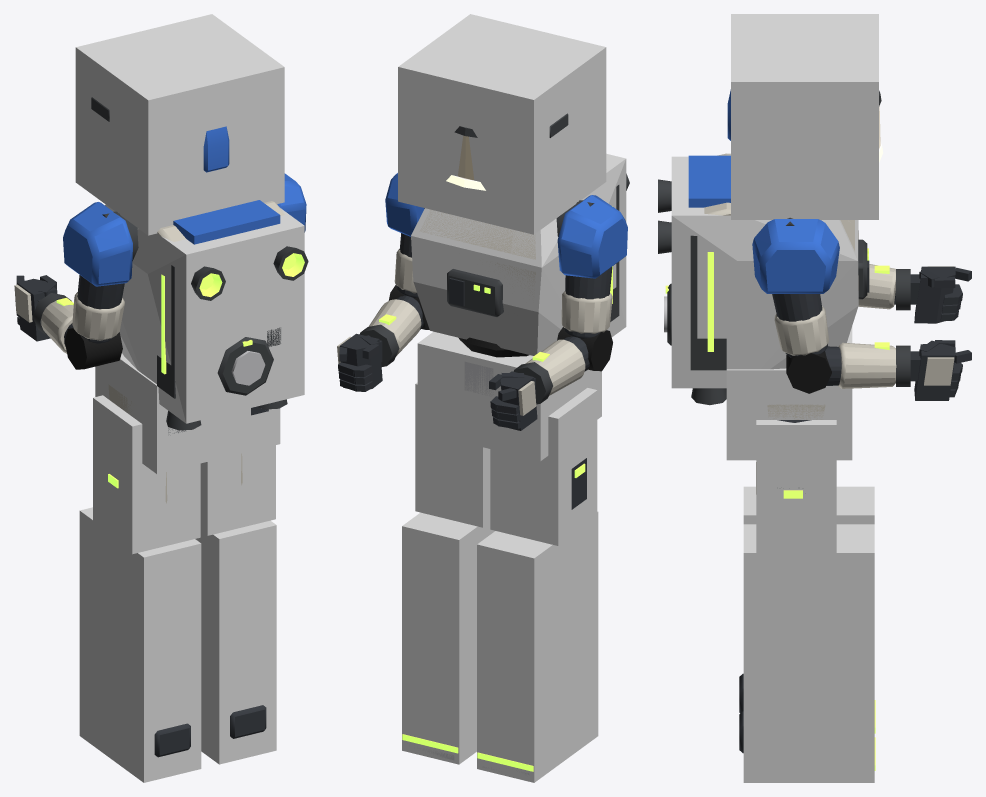
File: suit.glb
3 renders of one model, left to right at view 1: azimuth 30°, elevation 25°; view 2: azimuth 150°, elevation 25°; view 3: azimuth 270°, elevation 25°, orthographic. The views are drawn at different scales.
Parts seen in each view (by area): view 1: COL_head, COL_shin_l, COL_torso, COL_shin_r, COL_thigh_l, backpack, COL_pelvis, upper_arm_l, COL_thigh_r, forearm_l, hand_l, head (+3 smaller); view 2: COL_head, COL_shin_l, COL_shin_r, COL_torso, COL_thigh_l, COL_pelvis, upper_arm_l, COL_thigh_r, torso, forearm_l, forearm_r, hand_l (+7 smaller); view 3: COL_shin_r, COL_head, COL_torso, COL_thigh_r, upper_arm_r, COL_pelvis, backpack, forearm_r, hand_r, hand_l, COL_shin_l, forearm_l (+2 smaller).
Part boxes in pixels (bbox=[...]): COL_head: bbox=[75, 14, 284, 235]; COL_shin_l: bbox=[79, 507, 201, 782]; COL_torso: bbox=[105, 204, 304, 423]; COL_shin_r: bbox=[195, 520, 276, 764]; COL_thigh_l: bbox=[93, 395, 200, 554]; backpack: bbox=[157, 200, 308, 430]; COL_pelvis: bbox=[95, 353, 280, 473]; upper_arm_l: bbox=[63, 202, 132, 343]; COL_thigh_r: bbox=[200, 445, 275, 535]; forearm_l: bbox=[32, 293, 122, 369]; hand_l: bbox=[14, 275, 57, 341]; head: bbox=[91, 97, 229, 172]; COL_head: bbox=[398, 14, 606, 234]; COL_shin_l: bbox=[477, 511, 598, 782]; COL_shin_r: bbox=[402, 512, 494, 764]; COL_torso: bbox=[411, 153, 626, 355]; COL_thigh_l: bbox=[490, 388, 597, 545]; COL_pelvis: bbox=[417, 331, 601, 461]; upper_arm_l: bbox=[557, 195, 627, 338]; COL_thigh_r: bbox=[415, 382, 490, 527]; torso: bbox=[419, 202, 577, 357]; forearm_l: bbox=[513, 327, 612, 404]; forearm_r: bbox=[359, 285, 429, 366]; hand_l: bbox=[489, 371, 537, 430]; COL_shin_r: bbox=[743, 524, 874, 782]; COL_head: bbox=[731, 14, 878, 219]; COL_torso: bbox=[671, 156, 858, 388]; COL_thigh_r: bbox=[756, 420, 836, 555]; upper_arm_r: bbox=[752, 217, 839, 357]; COL_pelvis: bbox=[726, 326, 852, 460]; backpack: bbox=[658, 153, 730, 405]; forearm_r: bbox=[786, 342, 910, 393]; hand_r: bbox=[910, 340, 971, 400]; hand_l: bbox=[894, 266, 971, 323]; COL_shin_l: bbox=[743, 486, 874, 524]; forearm_l: bbox=[858, 264, 910, 310].
Bounding box in the file's own units: 0.596 × 1.83 × 0.7414.
